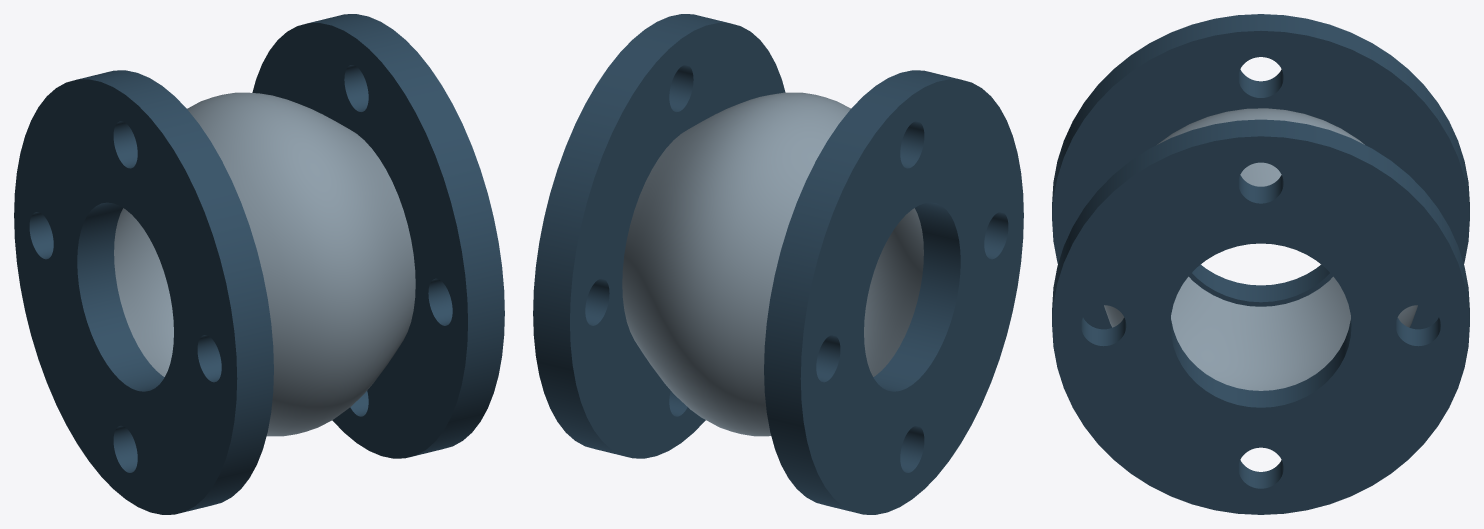
3 renders of one model, left to right at view 1: azimuth 30°, elevation 25°; view 2: azimuth 150°, elevation 25°; view 3: azimuth 270°, elevation 25°, orthographic. The views are drawn at different scales.
Parts seen in each view (by area): view 1: homut_flanec_1, rebro_vstavka_rezina, homut_flanec_2; view 2: homut_flanec_1, rebro_vstavka_rezina, homut_flanec_2; view 3: homut_flanec_2, homut_flanec_1, rebro_vstavka_rezina.
Boxes of the visible parts, box(x1,y1,x2,y2) form: homut_flanec_1: box(14, 70, 273, 514); rebro_vstavka_rezina: box(114, 92, 415, 436); homut_flanec_2: box(252, 14, 504, 458); homut_flanec_1: box(764, 70, 1023, 514); rebro_vstavka_rezina: box(622, 92, 923, 436); homut_flanec_2: box(533, 14, 785, 458); homut_flanec_2: box(1052, 119, 1469, 514); homut_flanec_1: box(1052, 14, 1469, 329); rebro_vstavka_rezina: box(1104, 108, 1417, 390).
Bounding box in the file's own units: 115 × 166 × 166.
